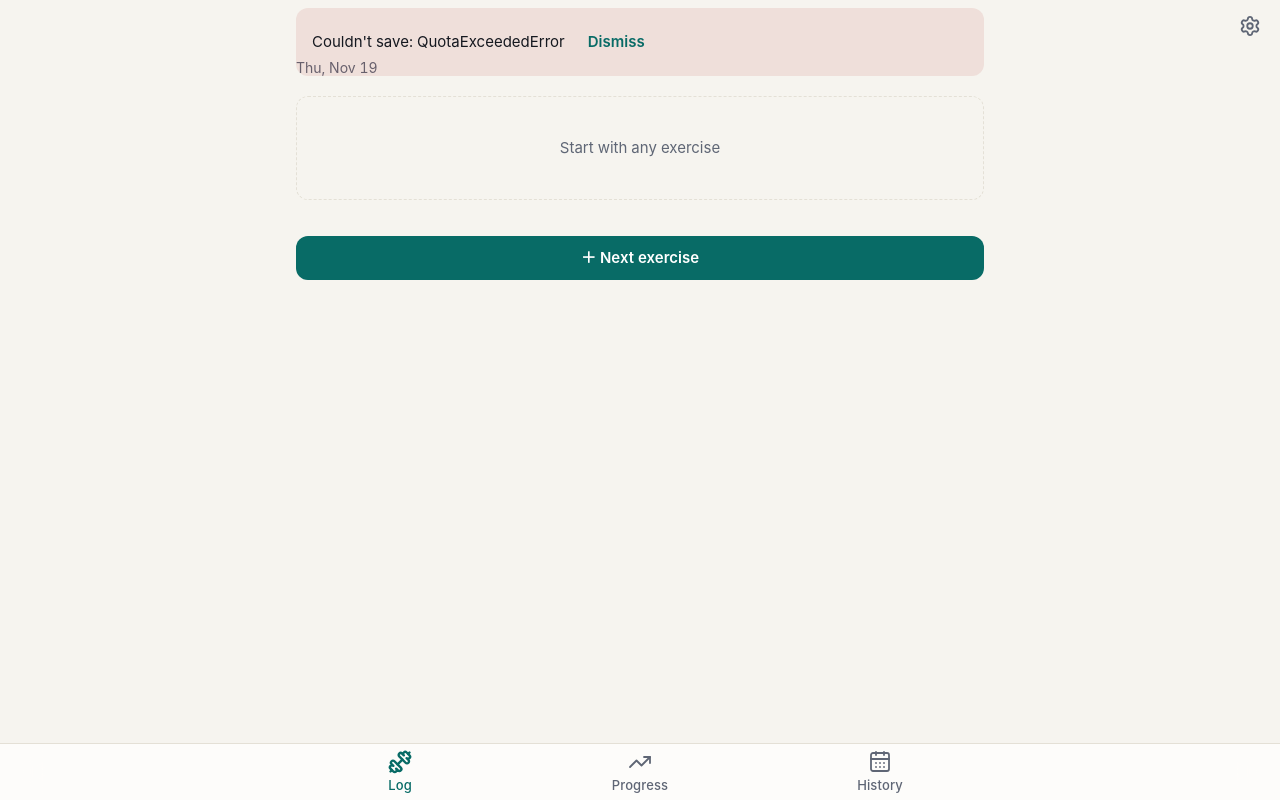
Test: save errors and toasts › a failed save shows a dismissible alert
The image size is (1280, 800).
Expected: the message shows "Couldn't save: QuotaExceededError", x1=312 y1=32 x2=565 y2=51
Click the button "Dismiss": x=616, y=42 x1=577 y1=20 x2=656 y2=64
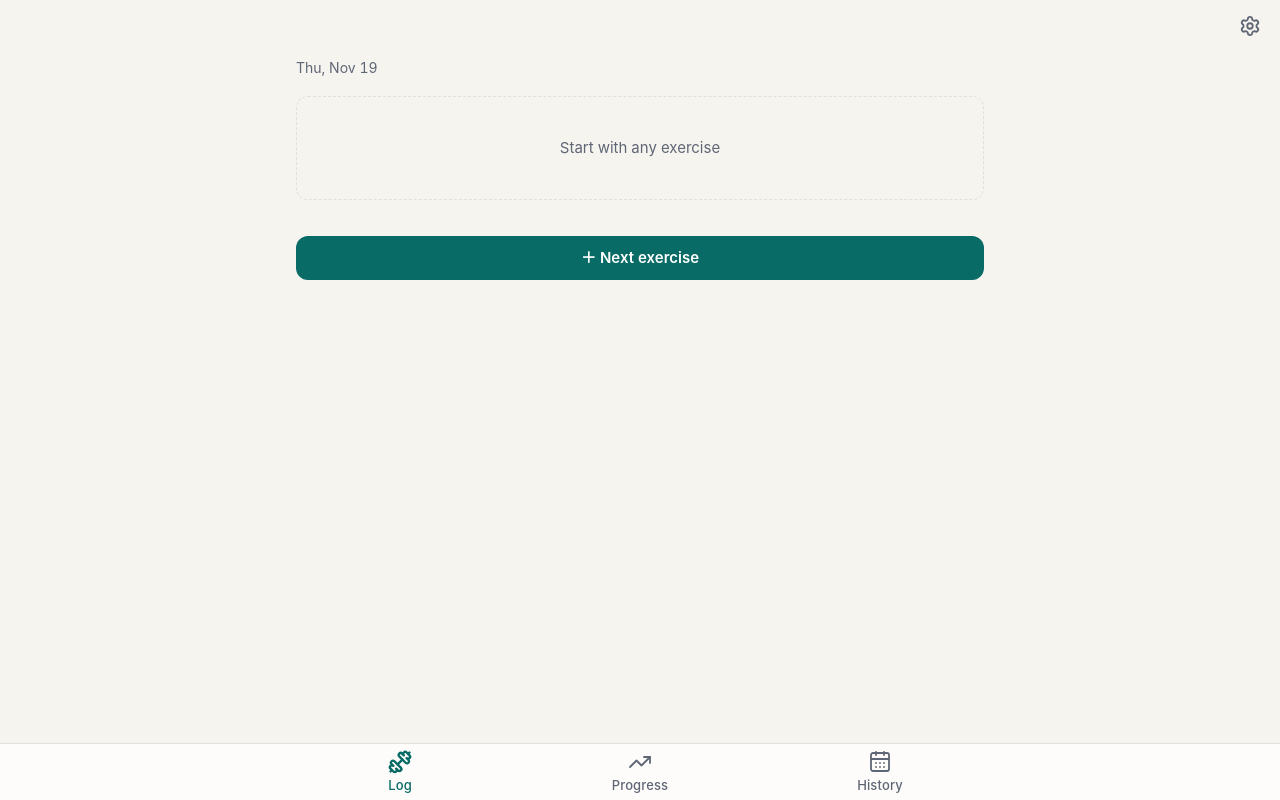
Now the message "Couldn't save: QuotaExceededError Dismiss" is gone
